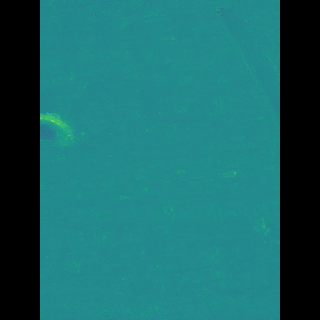Loch: (199, 0, 250, 135), (68, 104, 101, 152)
